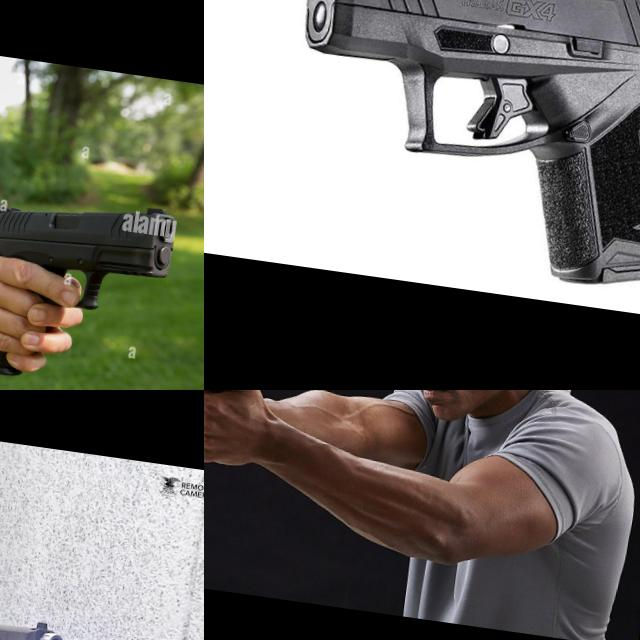handgun: (269, 0, 640, 298), (0, 182, 183, 324), (0, 573, 87, 640), (204, 390, 275, 435)
